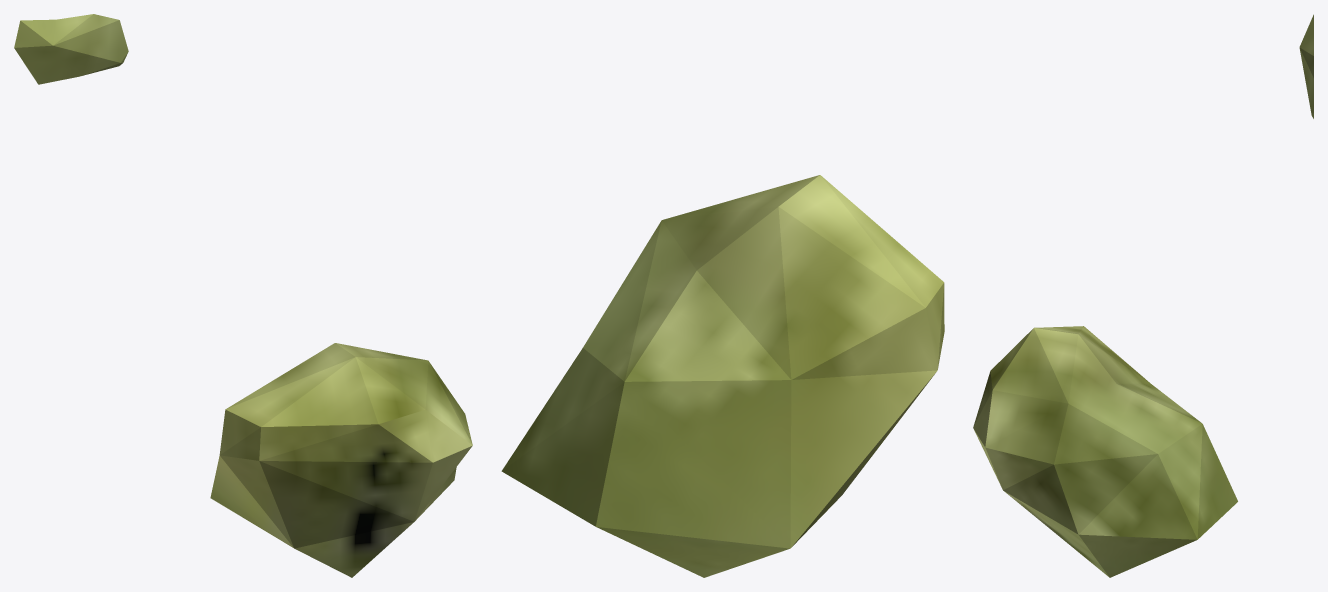
3 views of the same model, side by side, from view 1: azimuth 30°, elevation 25°; view 2: azimuth 150°, elevation 25°; view 3: azimuth 270°, elevation 25° (orthographic). The views are drawn at different scales.
Size of the model in its own units: 0.3098 by 0.4923 by 0.3239.
1 material, 1 textured.
